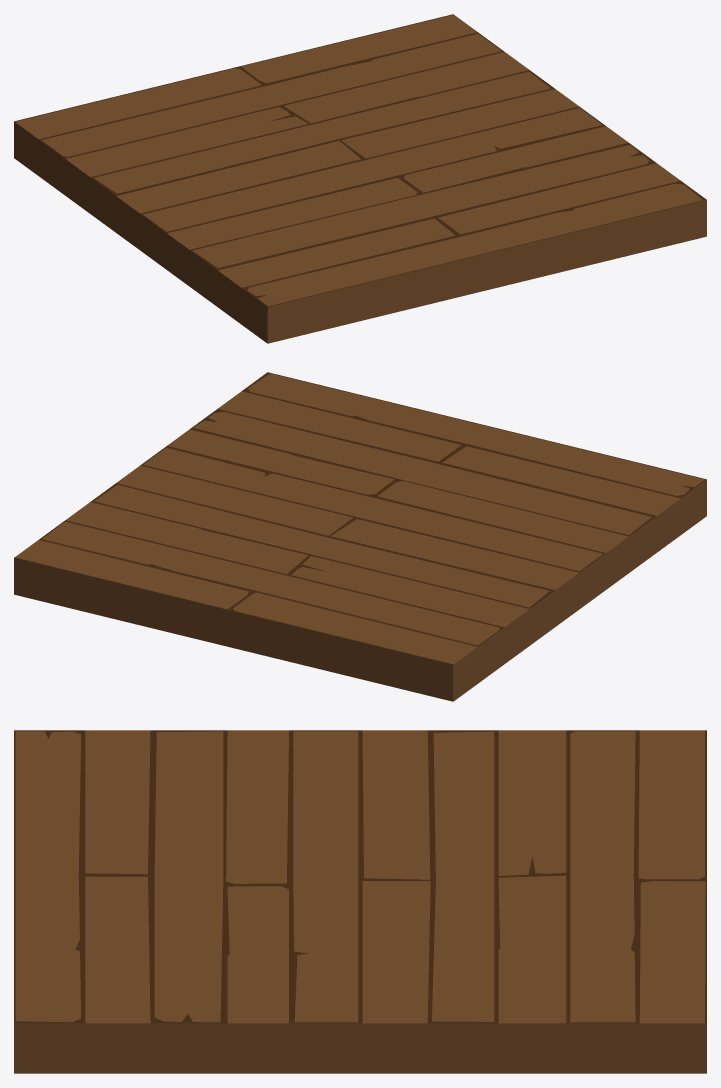
File: Floor_04.glb
3 views of the same model, one above another, from view 1: azimuth 30°, elevation 25°; view 2: azimuth 150°, elevation 25°; view 3: azimuth 270°, elevation 25° (orthographic). The views are drawn at different scales.
Visible parts, largest first — view 1: Floor_04_LOD0; view 2: Floor_04_LOD0; view 3: Floor_04_LOD0.
Part boxes in pixels (box(x1,y1,x2,y2)): Floor_04_LOD0: box(14, 14, 706, 343); Floor_04_LOD0: box(14, 372, 706, 701); Floor_04_LOD0: box(14, 730, 706, 1073).
Size of what is drawn, in the model's own units: 2.5 by 0.2 by 2.5.
Materials: 1 (1 with a texture image).
